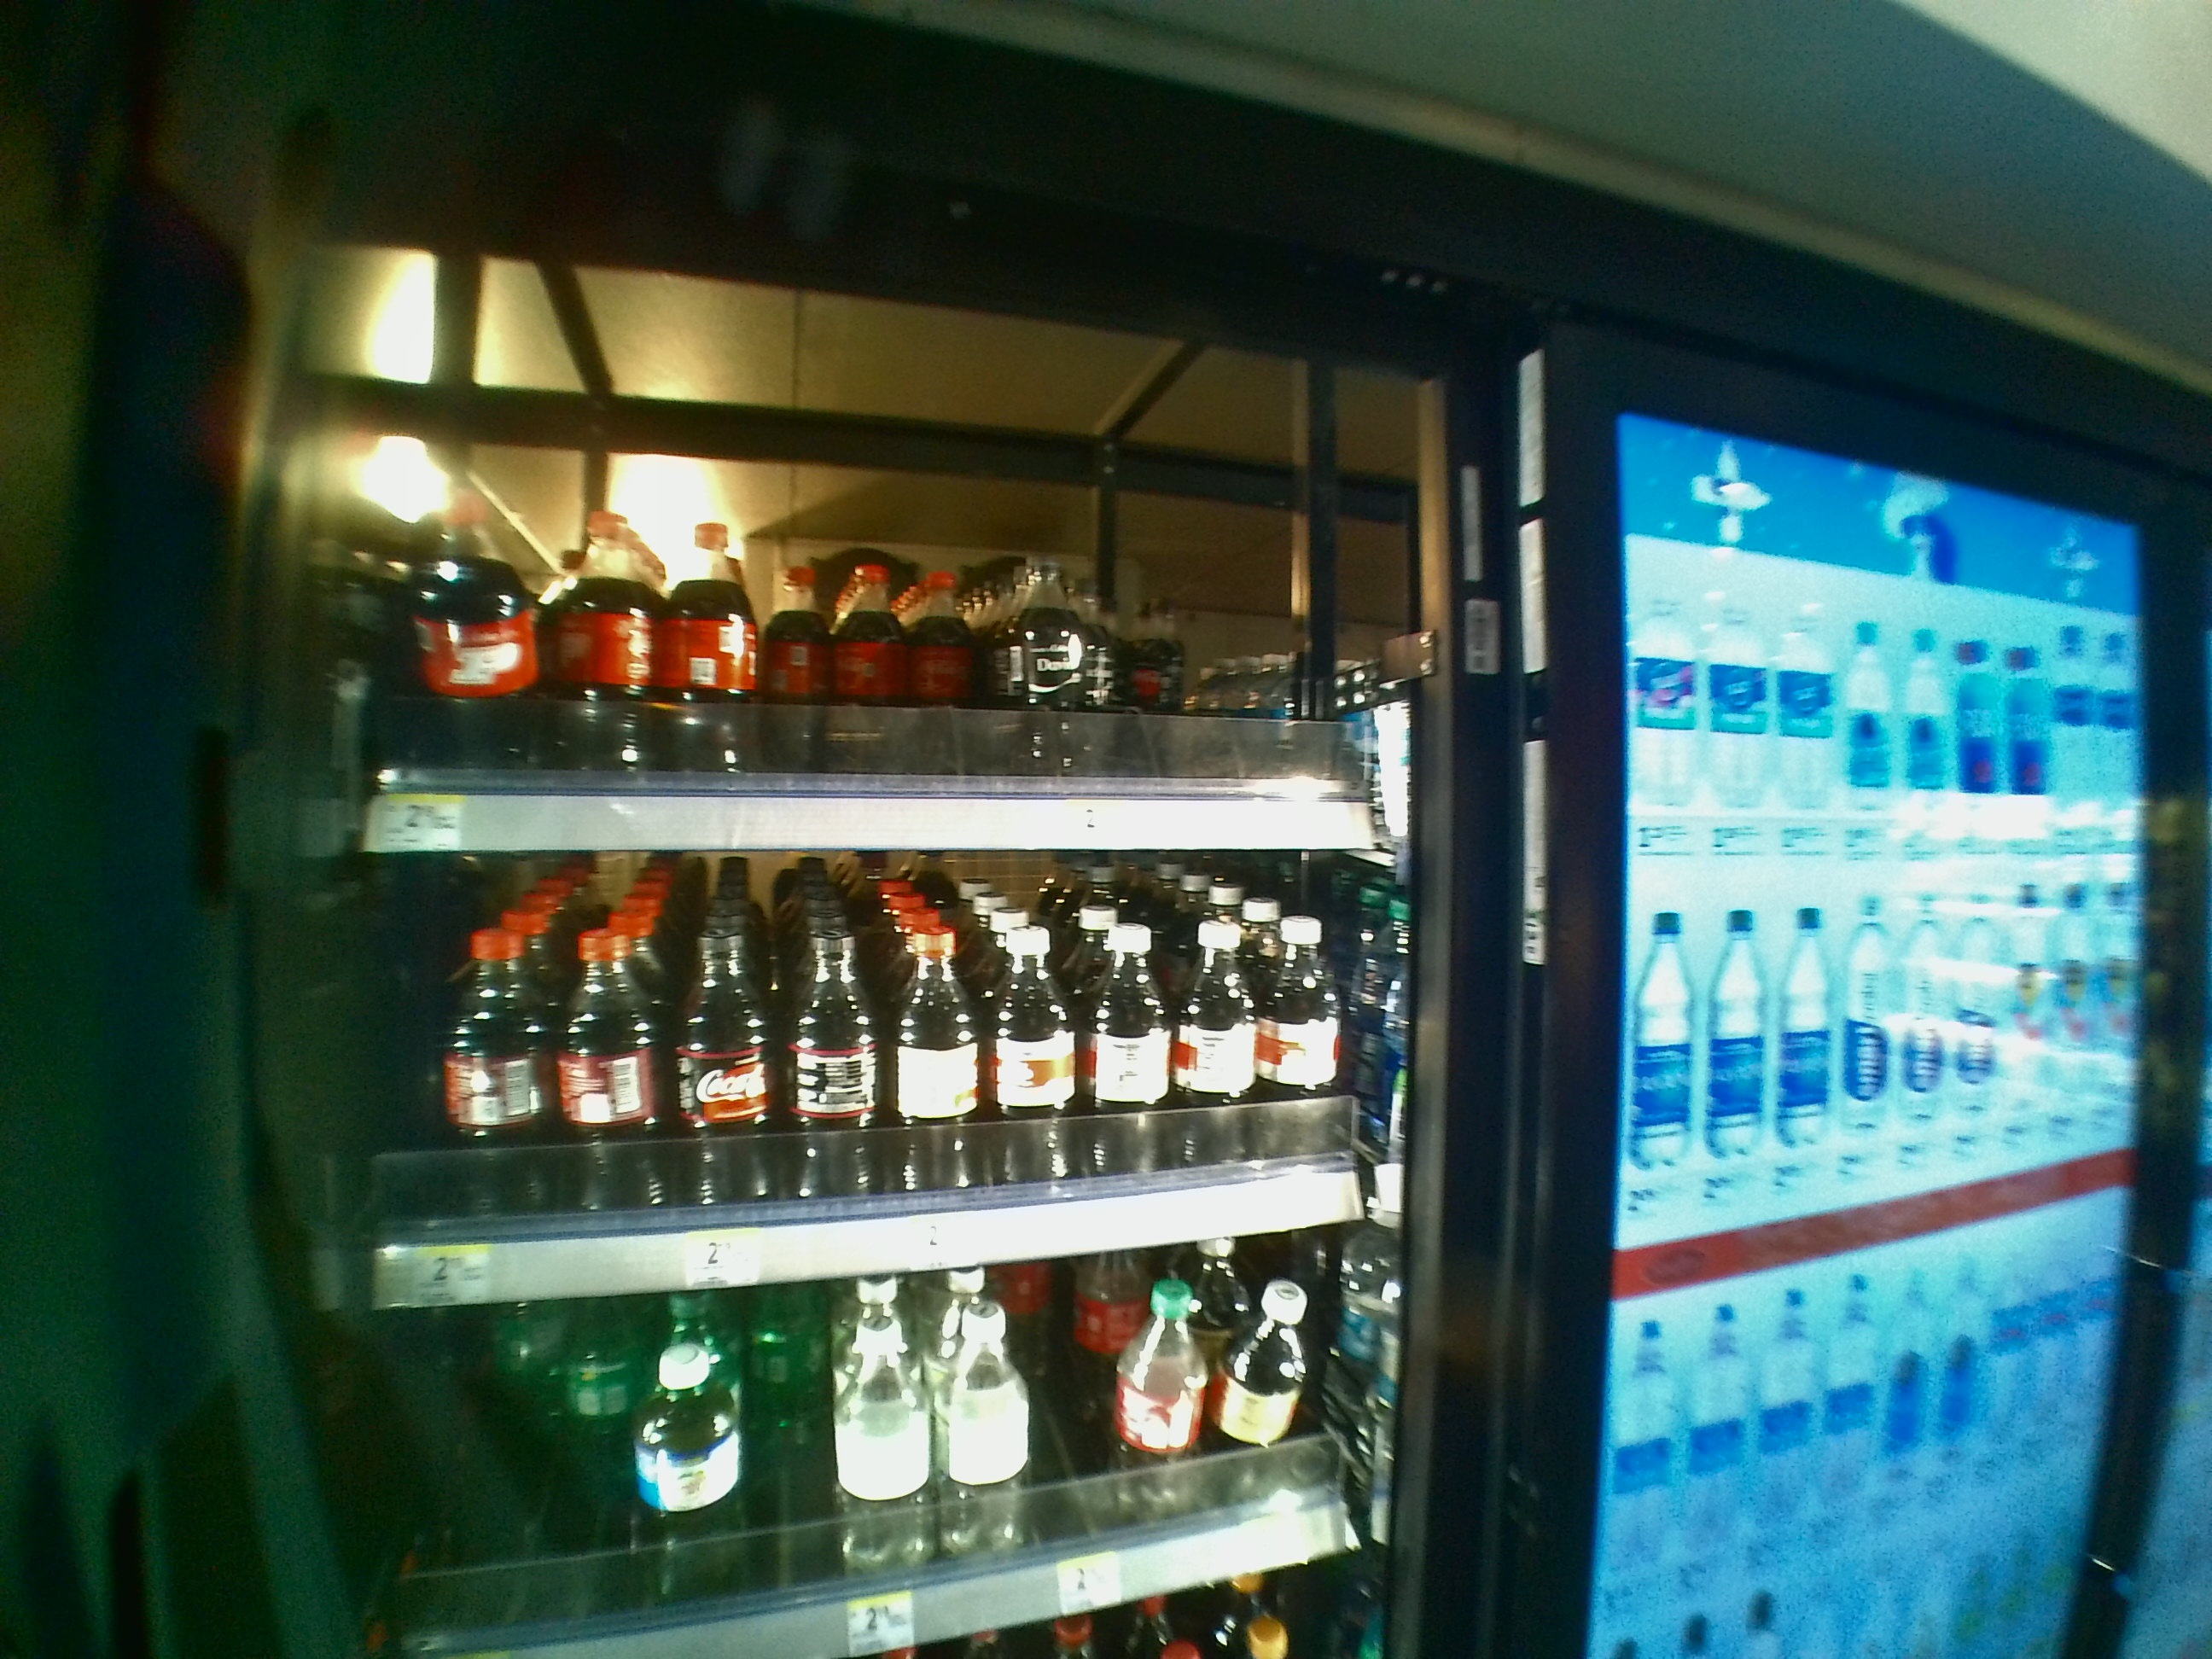shelf: (361, 852, 1411, 1303)
